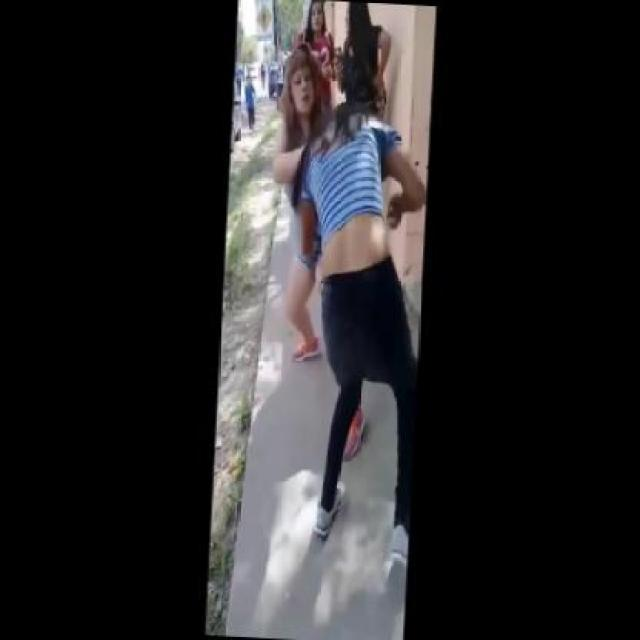fight: (256, 48, 430, 494)
